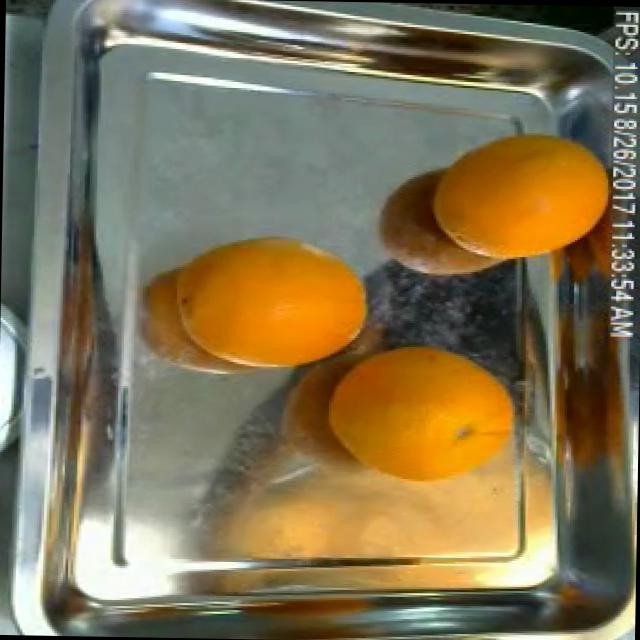Fruit: (405, 108, 632, 274), (182, 220, 386, 371)
